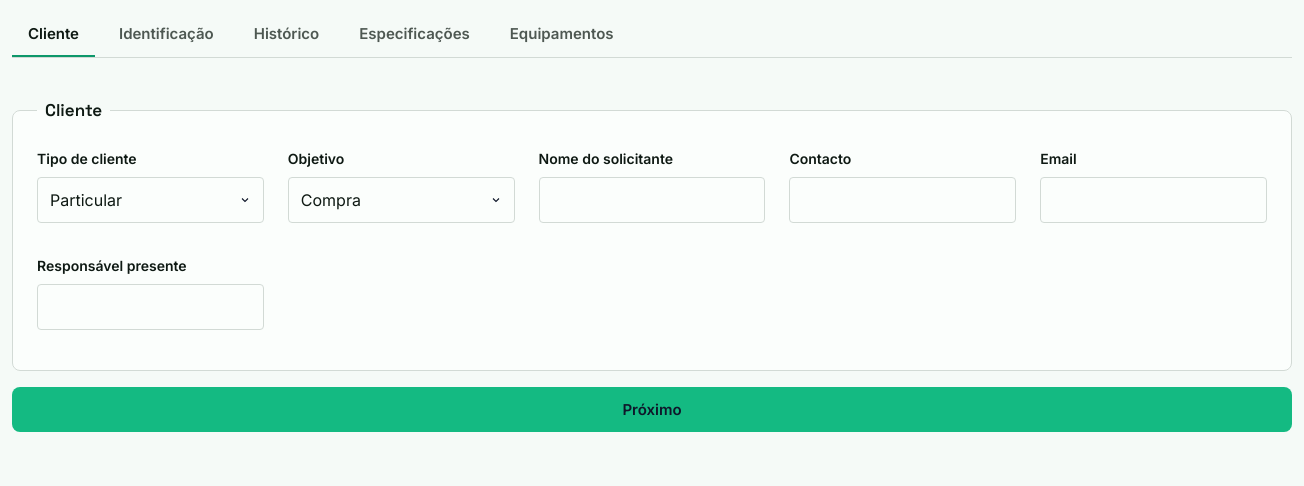
NewInspectionForm › keeps a typed value after the server returns a validation error (regression: React resets uncontrolled fields after a Server Action)
Click the tab "Identificação": [166, 34] box [103, 12, 230, 57]
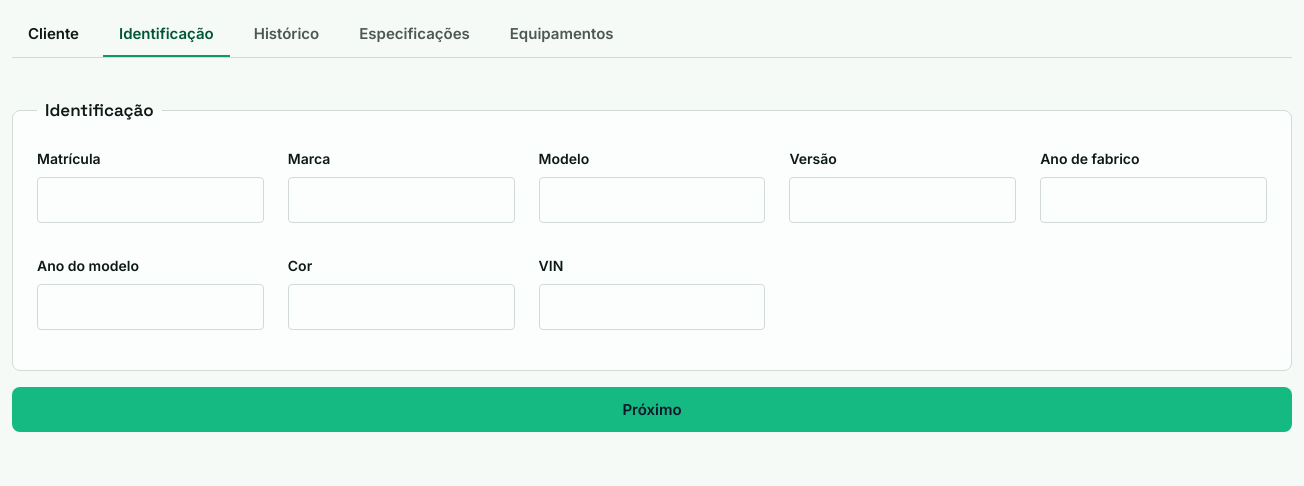
In the field labelled "Marca": [401, 200] box [288, 176, 515, 222], type "Toyota"
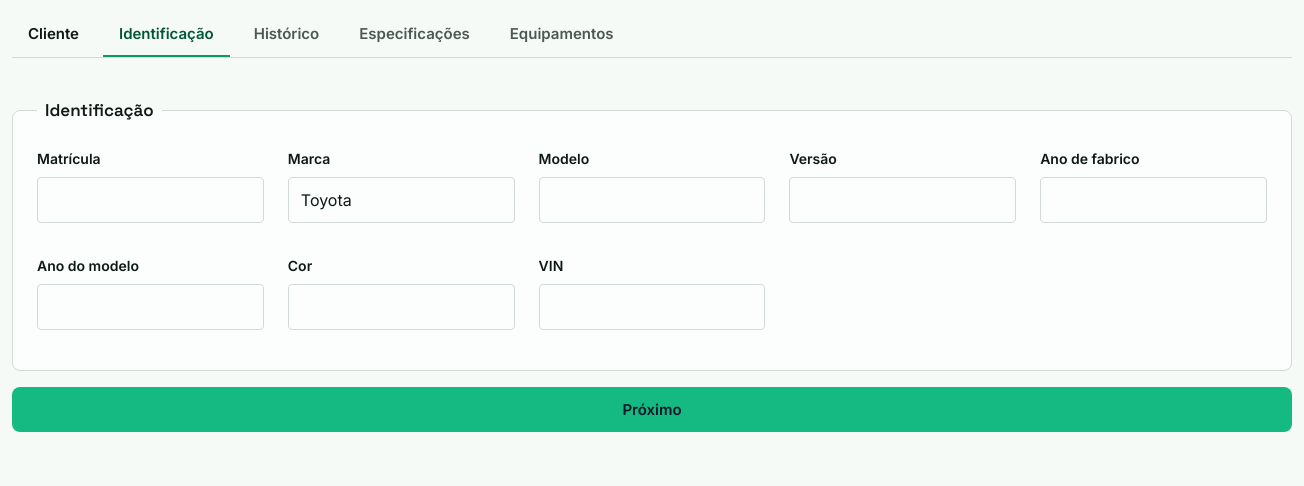
Submit the form
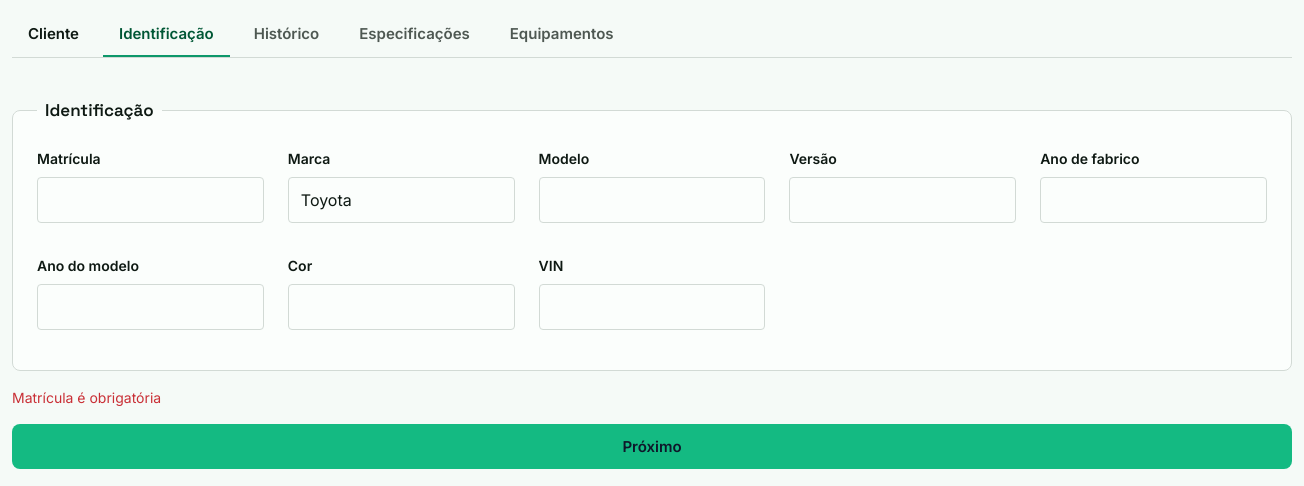
Now the message reads "Matrícula é obrigatória", box [12, 388, 161, 406]
